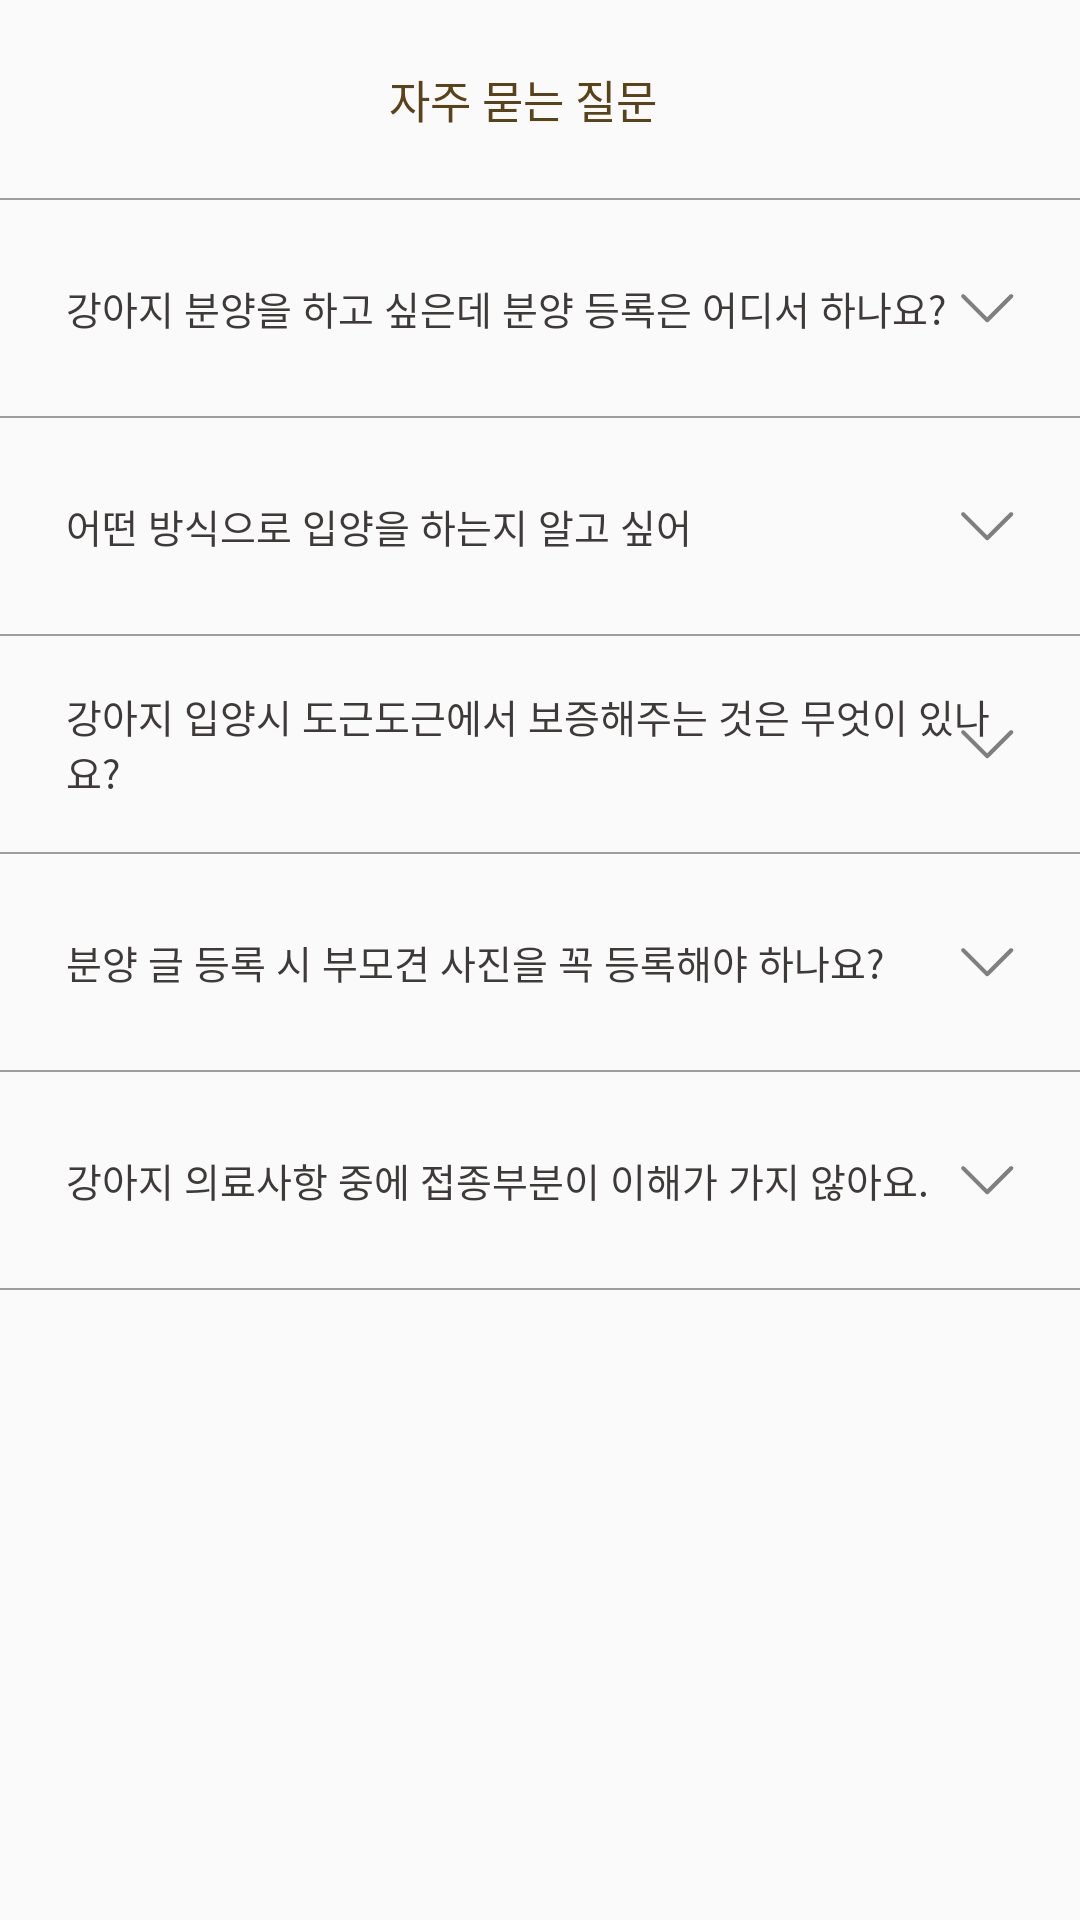

Where to tap for icons on this 1080*1920 app screen, as point (x, y):
down arrow: point (987, 308), point (987, 526), point (987, 744), point (987, 962), point (987, 1180)
